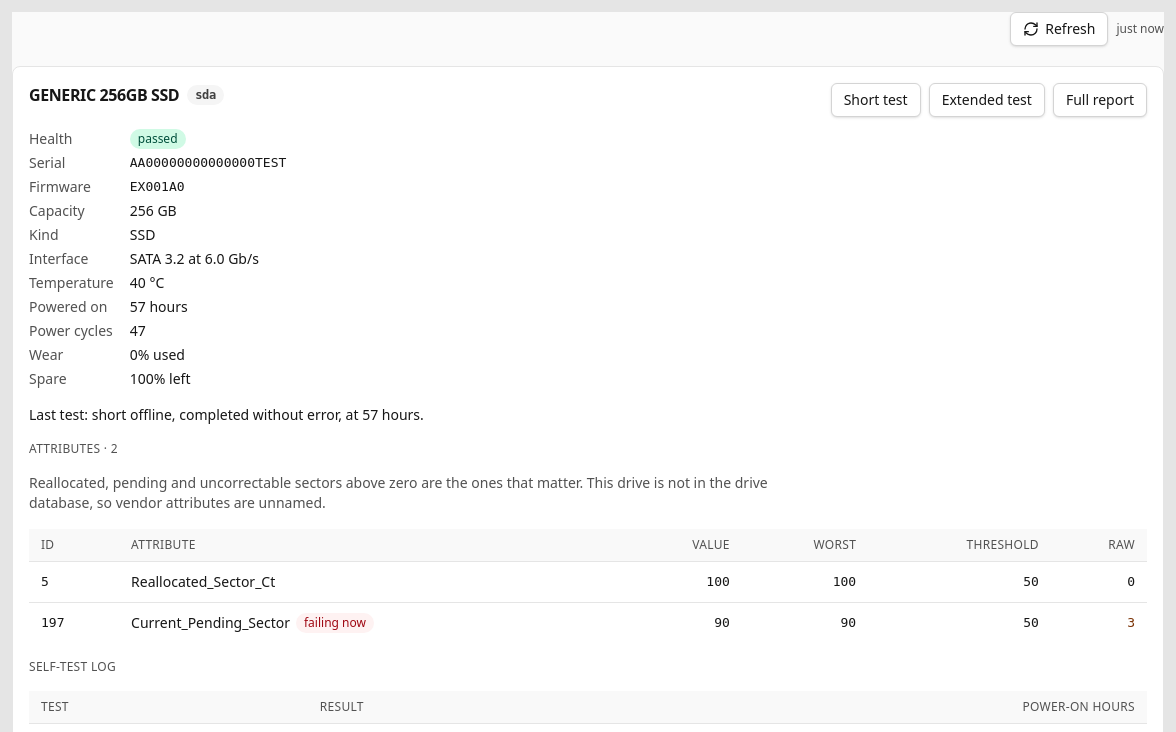
Test: DrivesPage › shows what the API refused
Click the button "Short test".
click(876, 100)  # box x1=831 y1=83 x2=921 y2=117
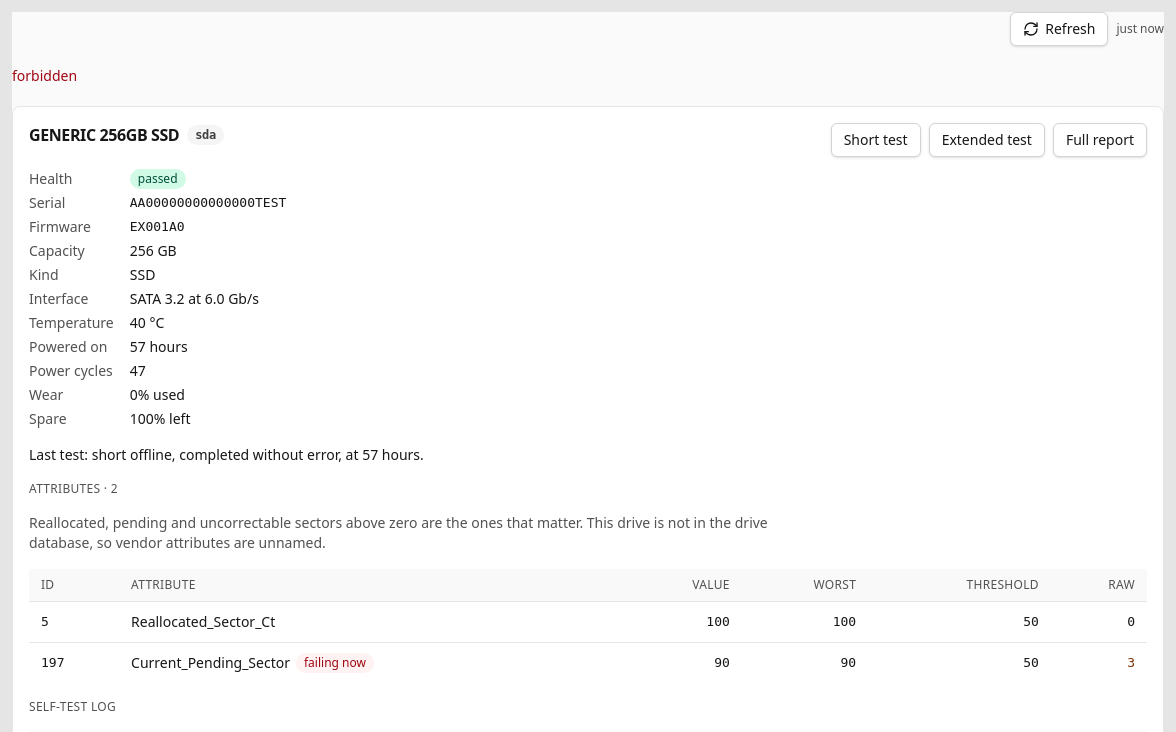
Now the message "forbidden" is shown, box x1=12 y1=66 x2=77 y2=85
